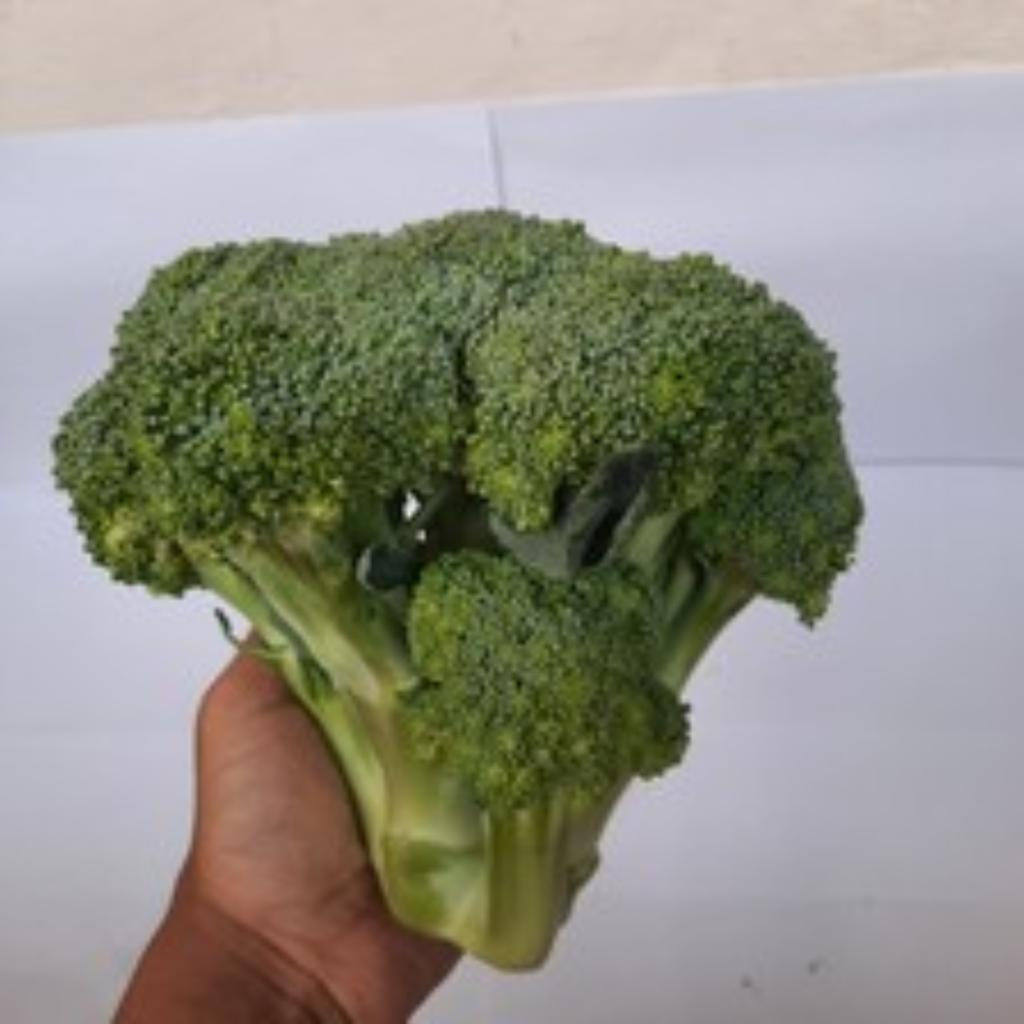Broccoli: (54, 212, 862, 967), (56, 212, 862, 967)
